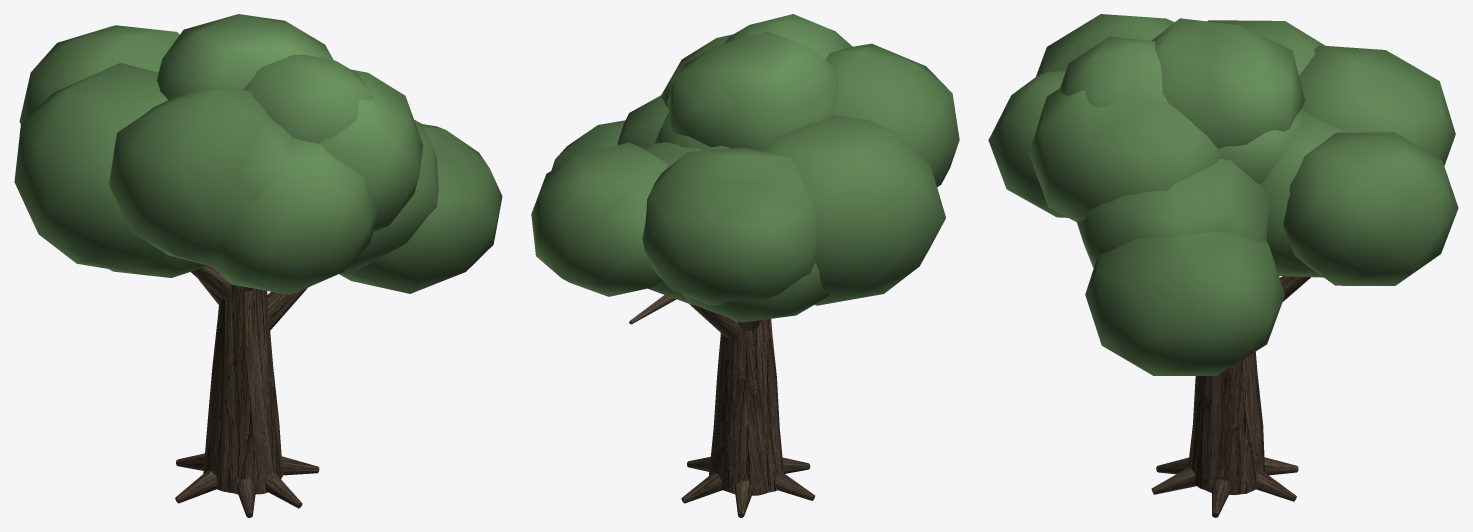
The model's file is mature-tree-v01-photo.glb.
The picture shows the model from 3 angles, left to right: view 1: azimuth 30°, elevation 25°; view 2: azimuth 150°, elevation 25°; view 3: azimuth 270°, elevation 25°; orthographic projection. The views are drawn at different scales.
Visible parts, largest first — view 1: mature-tree; view 2: mature-tree; view 3: mature-tree.
Part boxes in pixels (box(x1,y1,x2,y2)): mature-tree: box(14, 14, 502, 517); mature-tree: box(531, 14, 959, 517); mature-tree: box(988, 14, 1458, 517).
Size of the model in its own units: 7.32 by 7.76 by 7.25.
Materials: 2 (1 with a texture image).
